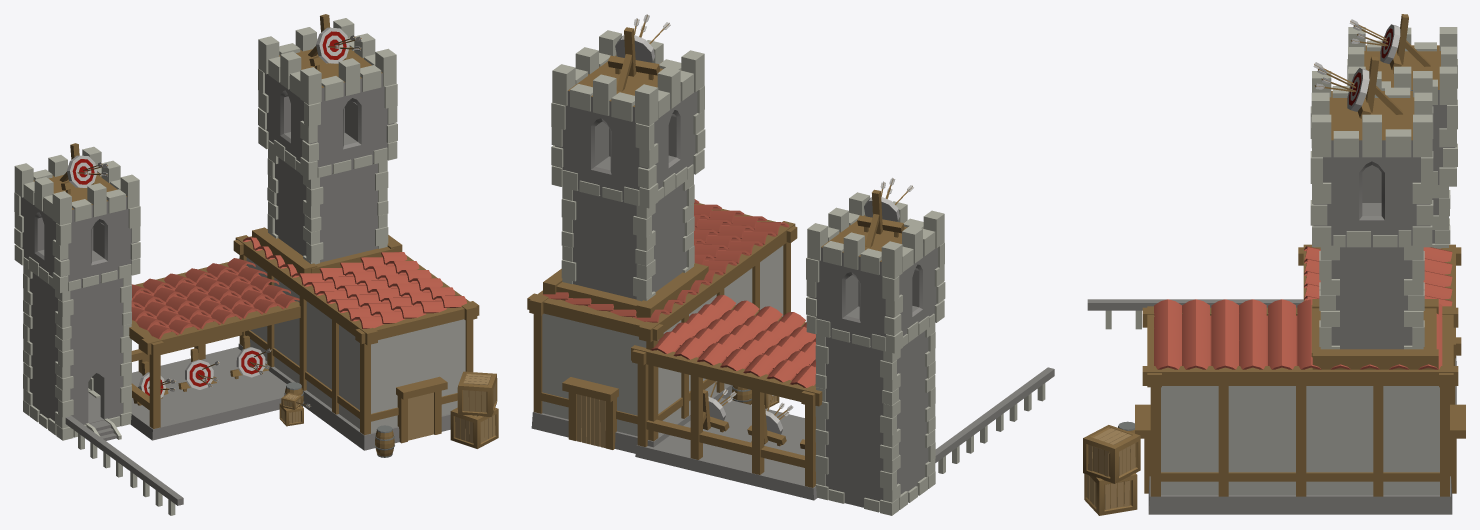
File: Archery_SecondAge_Level3.glb
3 renders of one model, left to right at view 1: azimuth 30°, elevation 25°; view 2: azimuth 150°, elevation 25°; view 3: azimuth 270°, elevation 25°, orthographic. The views are drawn at different scales.
Parts seen in each view (by area): view 1: Archery_SecondAge_Level3; view 2: Archery_SecondAge_Level3; view 3: Archery_SecondAge_Level3.
Boxes of the visible parts, left/top/right/bottom form: Archery_SecondAge_Level3: left=14, top=14, right=498, bottom=515; Archery_SecondAge_Level3: left=527, top=14, right=1054, bottom=515; Archery_SecondAge_Level3: left=1083, top=14, right=1465, bottom=515.
Bounding box in the file's own units: 1.95 × 1.95 × 1.59.
Materials: 1 (1 with a texture image).
